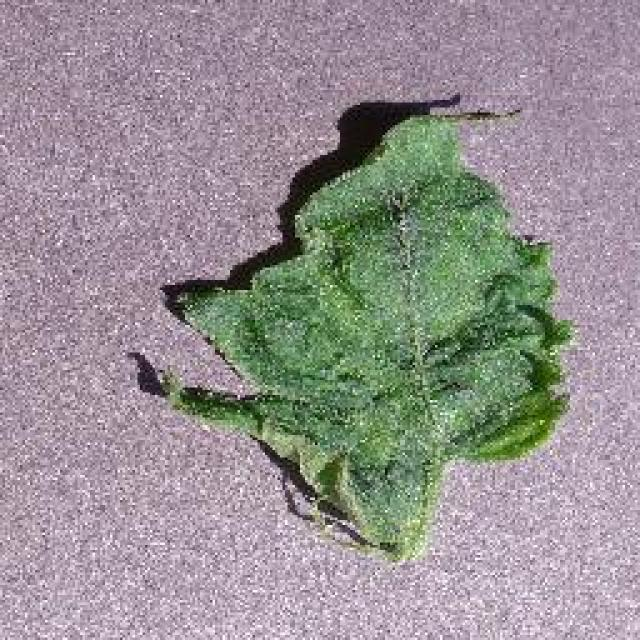Tomato___Tomato_mosaic_virus: (160, 115, 570, 558)
